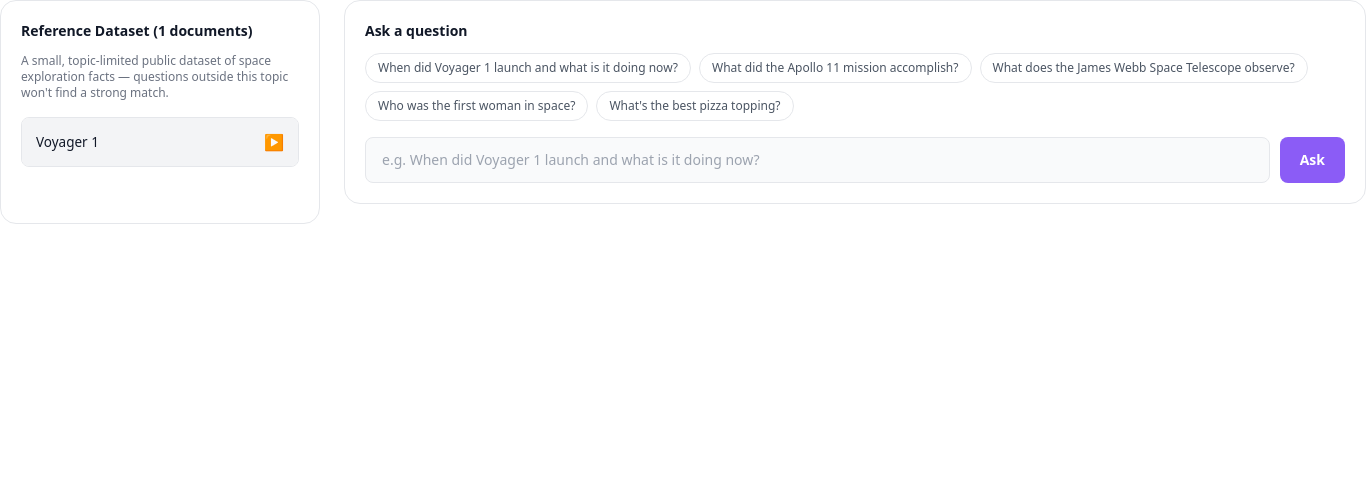
Scenario: RagApp › renders the answer and a retrieved passage with a similarity score for a grounded response
Type "When did Voyager 1 launch?" into the field with placeholder "e.g. When did Voyager 1 launch and what is it doing now?". click: (817, 160)
box: [365,137,1270,183]
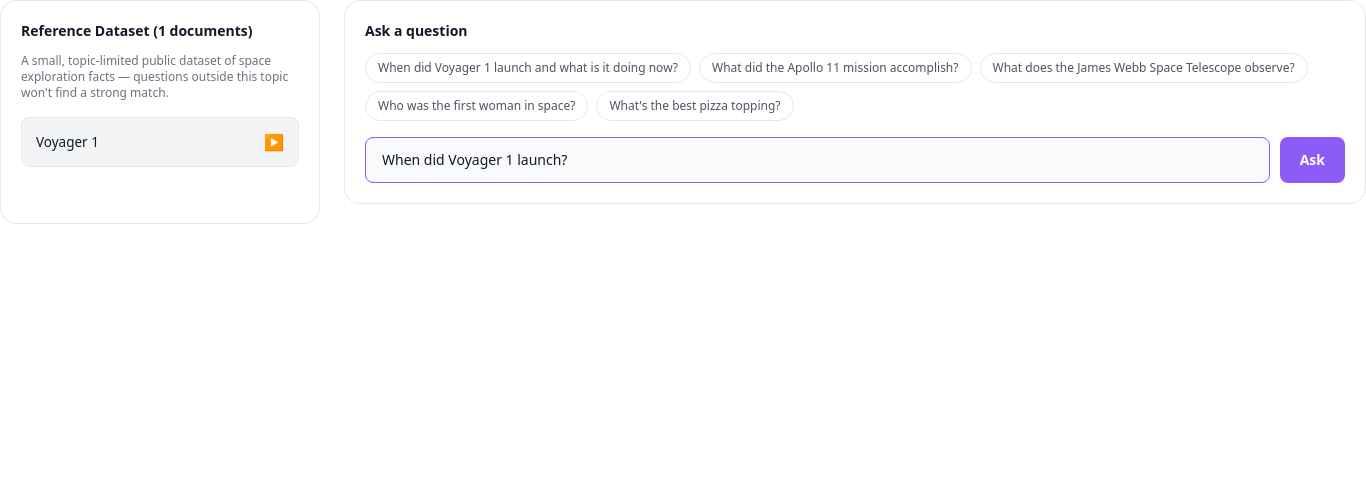
Click the button "Ask". click: (1312, 160)
box: [1280,137,1345,183]
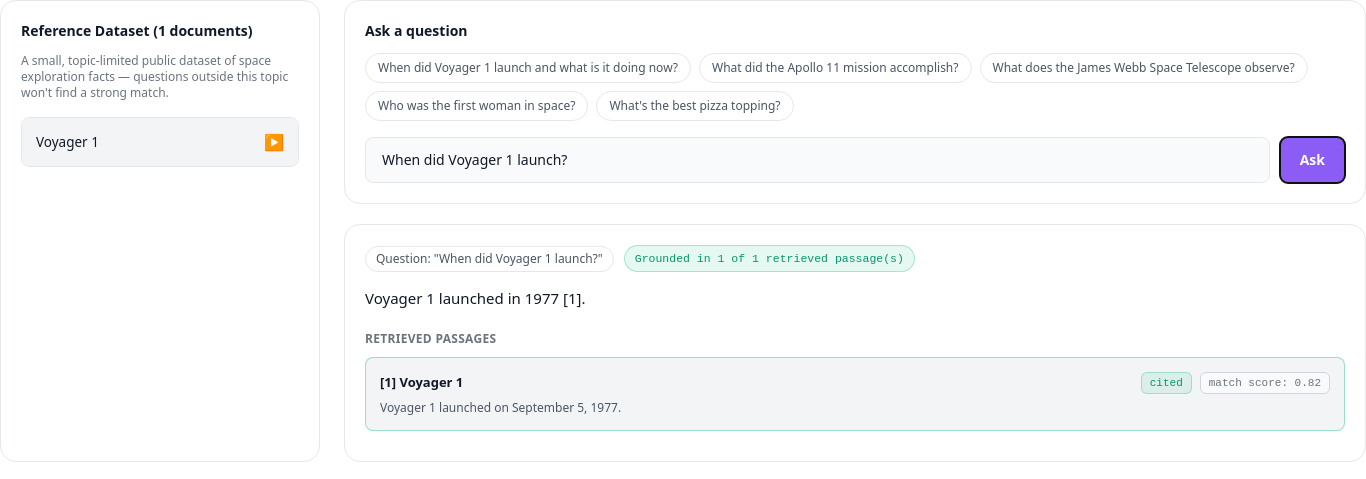
Expected: the text "Voyager 1 launched in 1977 [1]." is shown, [365,288,585,308]
Expected: the text "match score: 0.82" is shown, [1200,372,1330,394]
Expected: the text "Grounded in 1 of 1 retrieved passage(s)" is shown, [624,245,915,272]
